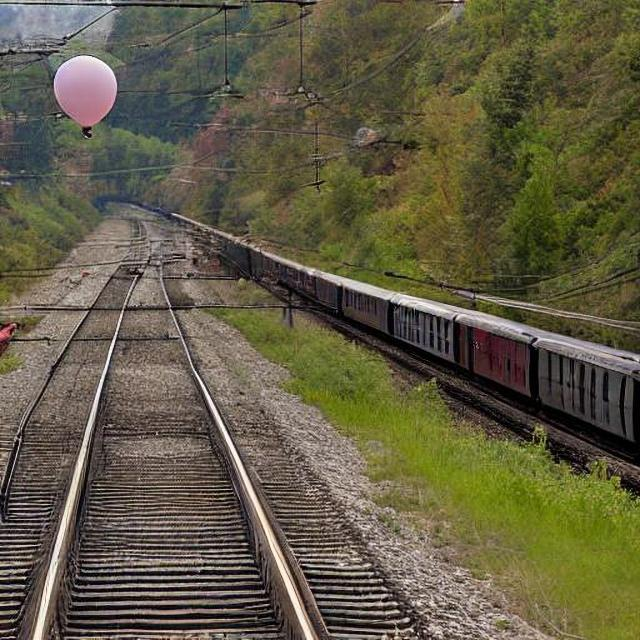balloon: (50, 52, 119, 126)
